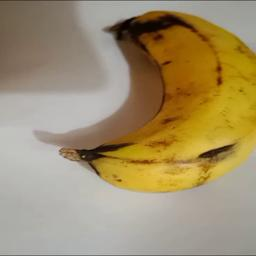Banana Semifresh: (61, 13, 256, 197)
